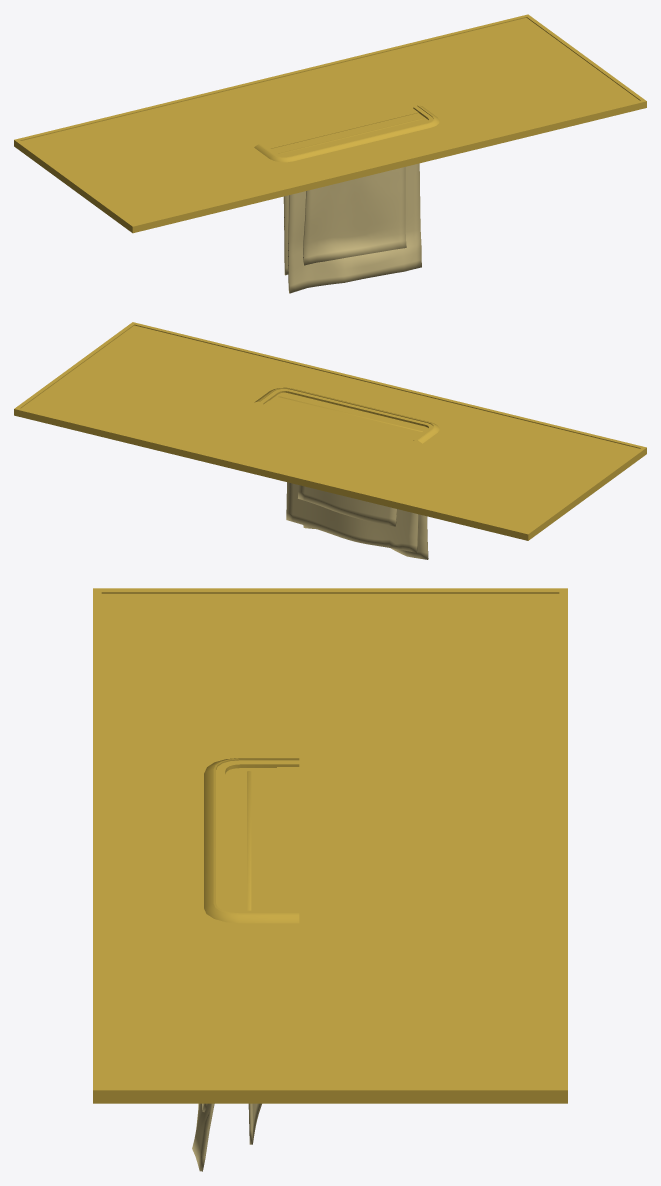
Rendered from Bathroom_props.fbx.
3 renders of one model, top to bottom at view 1: azimuth 30°, elevation 25°; view 2: azimuth 150°, elevation 25°; view 3: azimuth 270°, elevation 25°, orthographic. The views are drawn at different scales.
Parts seen in each view (by area): view 1: SM_Mirror, SM_Towels_hang, SM_Bath_Lamp; view 2: SM_Mirror, SM_Towels_hang, SM_Bath_Lamp; view 3: SM_Mirror, SM_Bath_Lamp, SM_Towels_hang.
Part boxes in pixels (x1,y1,x2,y2): SM_Mirror: (14, 14, 646, 233); SM_Towels_hang: (283, 163, 421, 293); SM_Bath_Lamp: (254, 105, 439, 162); SM_Mirror: (14, 322, 646, 540); SM_Towels_hang: (286, 482, 428, 559); SM_Bath_Lamp: (254, 387, 439, 443); SM_Mirror: (93, 588, 567, 1103); SM_Bath_Lamp: (204, 758, 299, 923); SM_Towels_hang: (192, 1103, 261, 1171).
Size of the model in its own units: 150 by 38.77 by 60.
